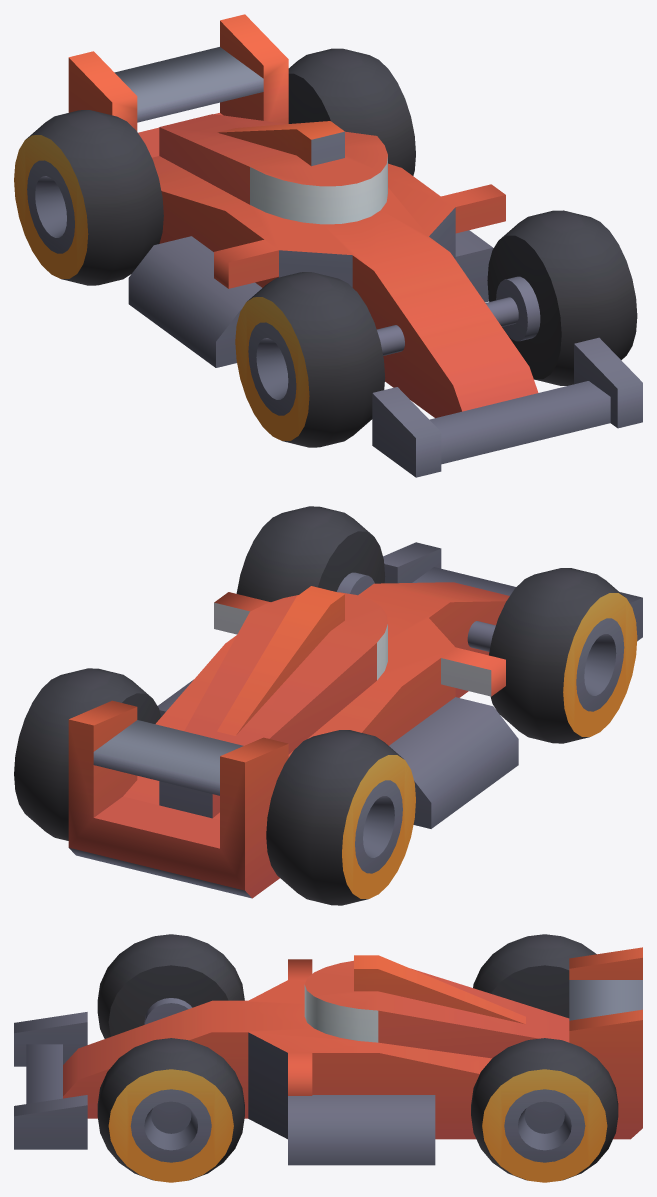
The model's file is mod-carro-corrida.gltf.
The picture shows the model from 3 angles, top to bottom: view 1: azimuth 30°, elevation 25°; view 2: azimuth 150°, elevation 25°; view 3: azimuth 270°, elevation 25°; orthographic projection. The views are drawn at different scales.
Visible parts, largest first — view 1: body; view 2: body; view 3: body.
Boxes of the visible parts, x1,y1,x2,y2 form: body: (14,14,642,477); body: (14,506,642,905); body: (14,934,642,1182).
Size of the model in its own units: 1.25 by 0.7032 by 2.46.
Materials: 1 (1 with a texture image).
